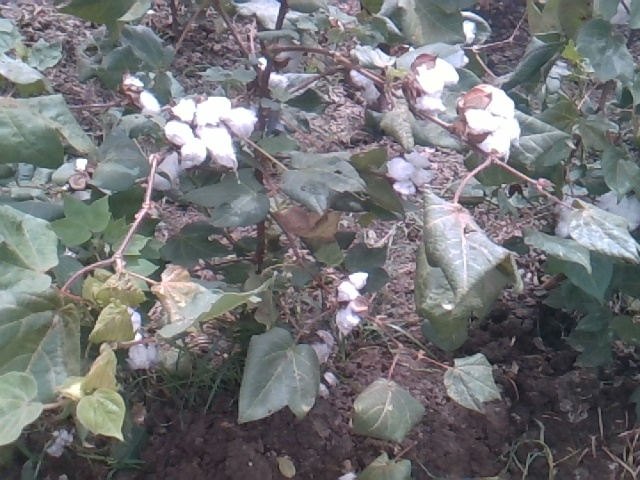cotton: (196, 94, 263, 169), (461, 83, 520, 163), (406, 54, 460, 115), (164, 94, 203, 169), (335, 269, 367, 336), (122, 71, 161, 121), (388, 148, 427, 197)
